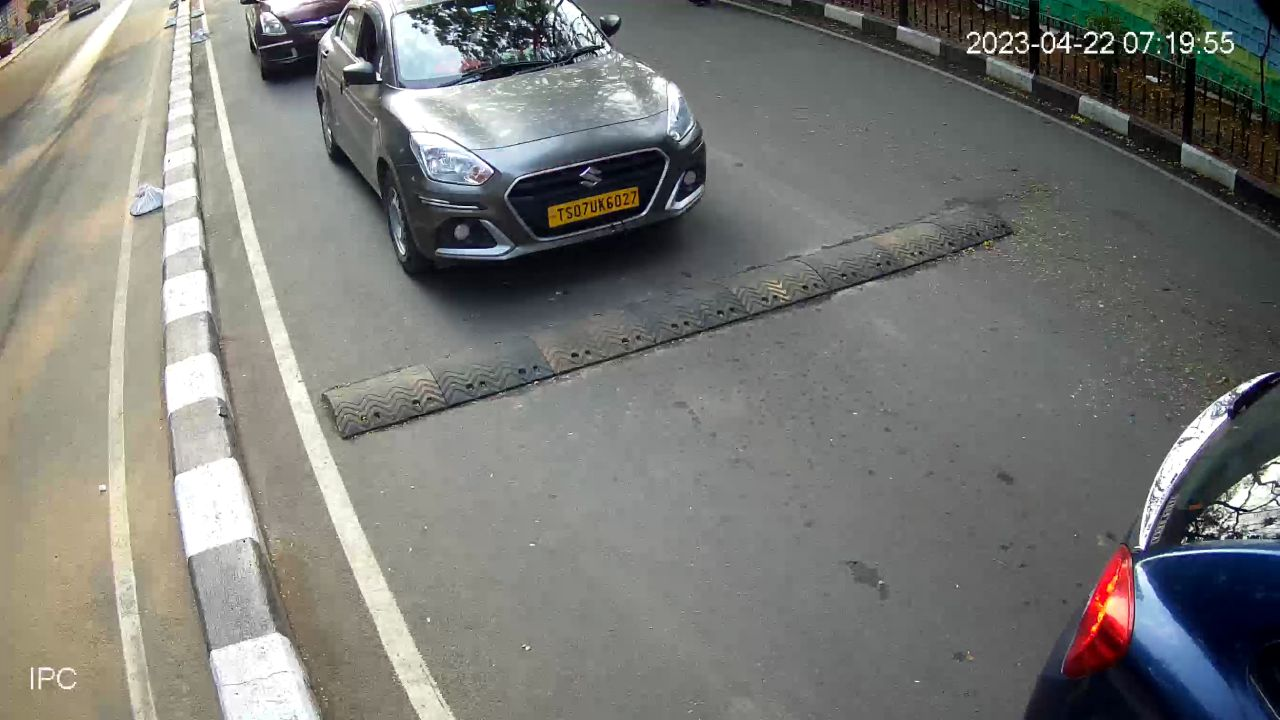license_plate: (544, 184, 643, 238)
